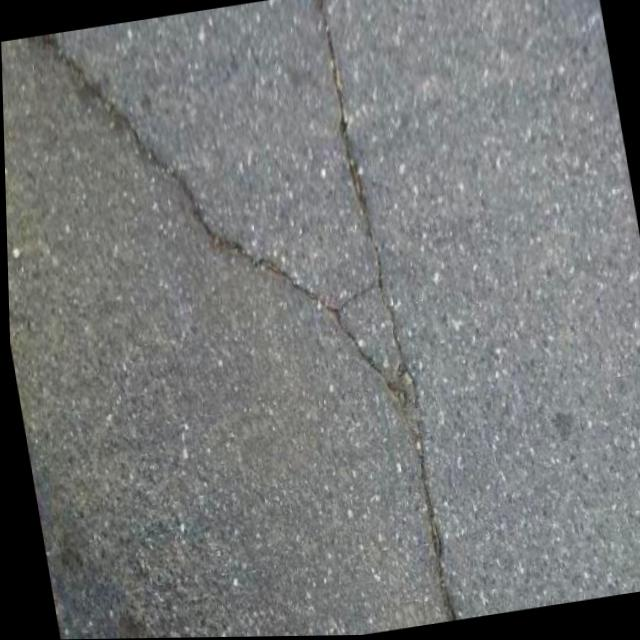Crack: (10, 0, 409, 472), (303, 0, 463, 629)
